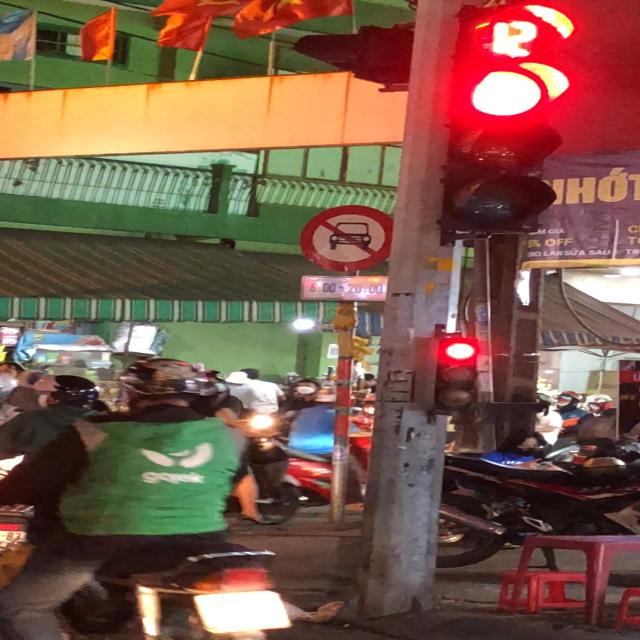Bien bao cam xe oto: (297, 204, 399, 274)
